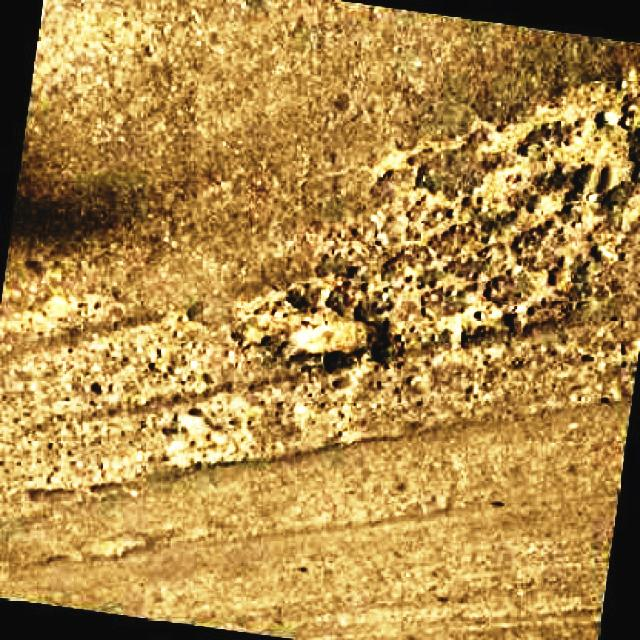pothole: (257, 63, 640, 348), (0, 308, 289, 457)
